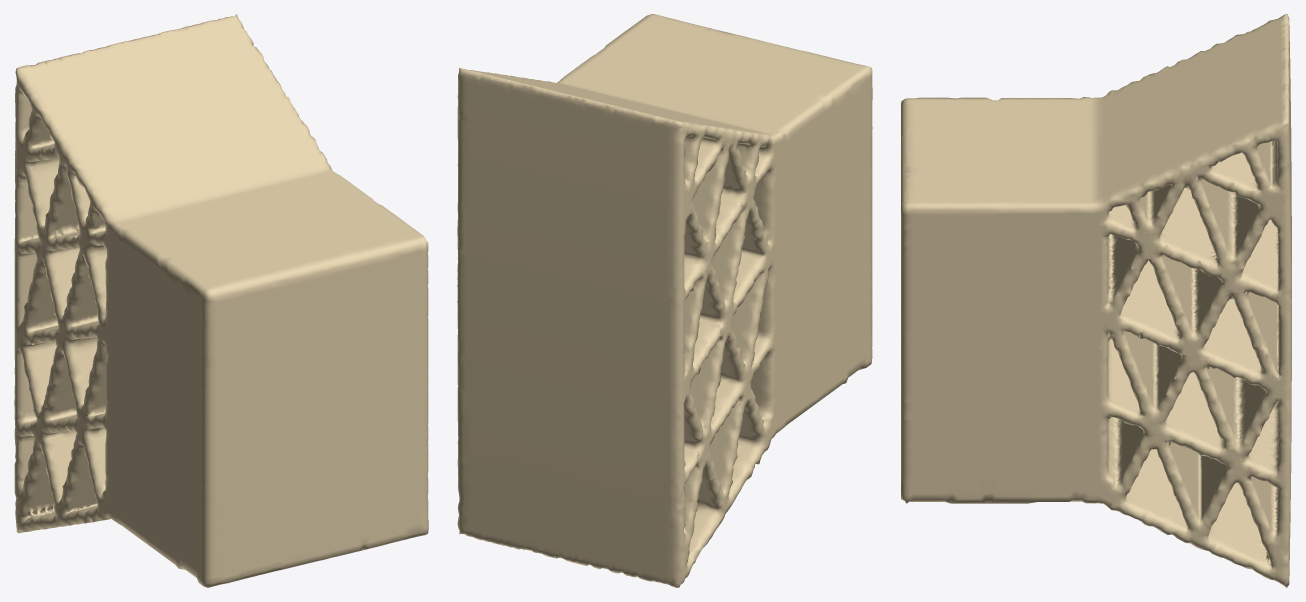
The model's file is ollie-paw-shape-001.glb.
The picture shows the model from 3 angles, left to right: view 1: azimuth 30°, elevation 25°; view 2: azimuth 150°, elevation 25°; view 3: azimuth 270°, elevation 25°; orthographic projection.
Parts seen in each view (by area): view 1: _Paw_SemiCirclePercent_1_; view 2: _Paw_SemiCirclePercent_1_; view 3: _Paw_SemiCirclePercent_1_.
Boxes of the visible parts, <box> form: _Paw_SemiCirclePercent_1_: <box>14,14,428,587</box>; _Paw_SemiCirclePercent_1_: <box>457,14,872,587</box>; _Paw_SemiCirclePercent_1_: <box>901,14,1291,587</box>.
Size of the model in its own units: 20 by 39.83 by 30.2.
